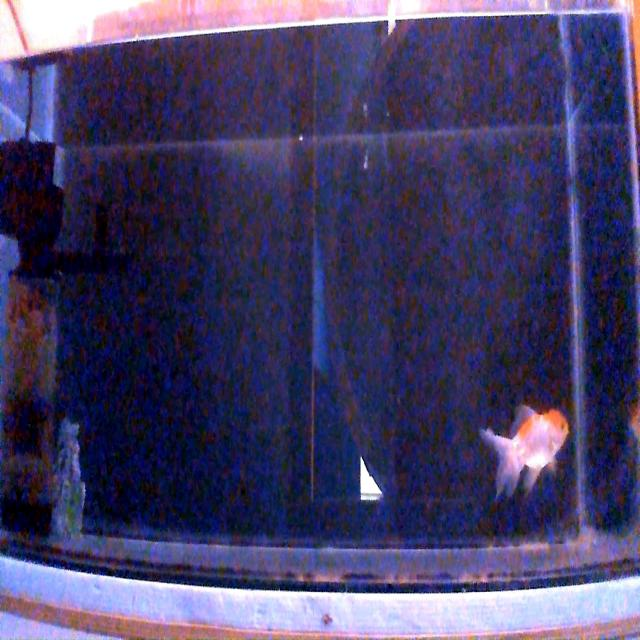fish: (480, 404, 571, 504), (628, 404, 639, 438)
